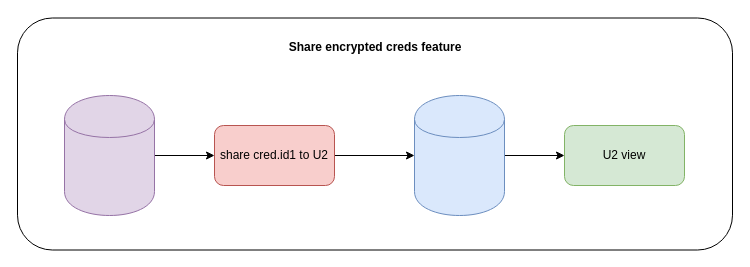
Some shapes in this 750 by 267 pixel diagram are drawn without their labels. Here are the shapes that lost their labels. From the top down, the centre of each, then its label:
At (109,155): "U1 database".
At (459,155): "U2 database".
